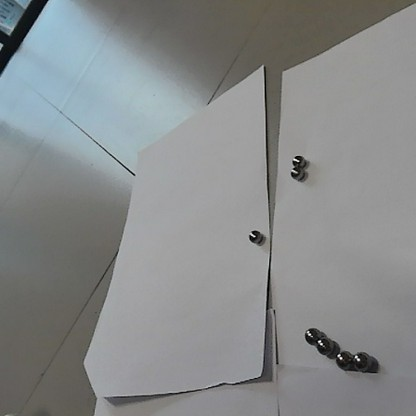ironball: (352, 350, 370, 370), (336, 349, 352, 370), (302, 325, 317, 343), (289, 167, 305, 181), (317, 339, 331, 353), (248, 229, 260, 243), (292, 155, 303, 167)
